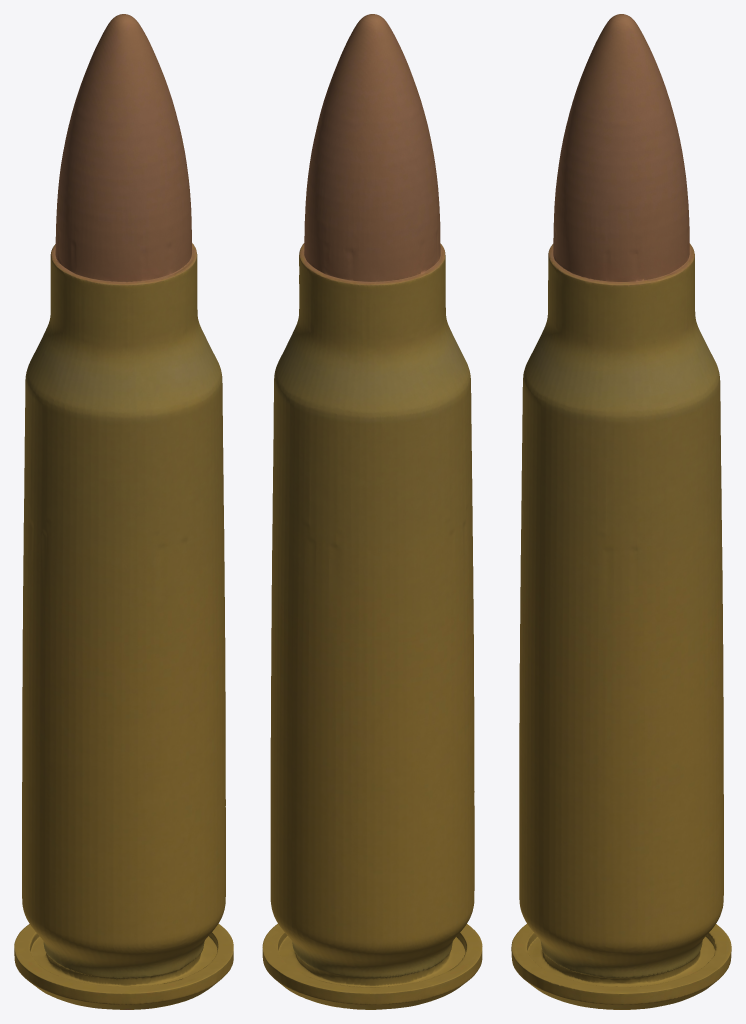
The model's file is brass-bullet.glb.
3 views of the same model, side by side, from view 1: azimuth 30°, elevation 25°; view 2: azimuth 150°, elevation 25°; view 3: azimuth 270°, elevation 25° (orthographic).
Parts seen in each view (by area): view 1: tripo_node_2224b524-3946-4cee-a218-e6878e16dab2; view 2: tripo_node_2224b524-3946-4cee-a218-e6878e16dab2; view 3: tripo_node_2224b524-3946-4cee-a218-e6878e16dab2.
Part boxes in pixels (bbox=[...]): tripo_node_2224b524-3946-4cee-a218-e6878e16dab2: bbox=[14, 14, 233, 1009]; tripo_node_2224b524-3946-4cee-a218-e6878e16dab2: bbox=[262, 14, 482, 1009]; tripo_node_2224b524-3946-4cee-a218-e6878e16dab2: bbox=[511, 14, 731, 1009].
Bounding box in the file's own units: 0.2093 × 1 × 0.2094.
Materials: 1 (1 with a texture image).
